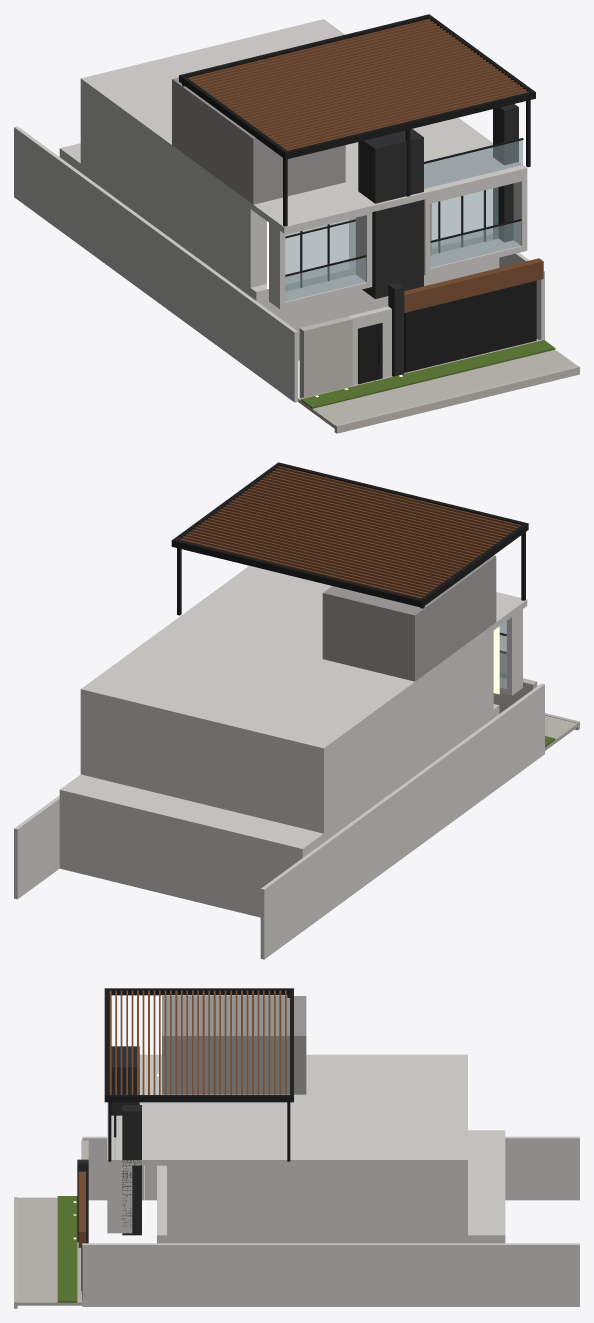
File: prototipo-3.glb
3 renders of one model, top to bottom at view 1: azimuth 30°, elevation 25°; view 2: azimuth 150°, elevation 25°; view 3: azimuth 270°, elevation 25°, orthographic. The views are drawn at different scales.
Parts seen in each view (by area): view 1: prototipo-3; view 2: prototipo-3; view 3: prototipo-3.
Boxes of the visible parts, left/top/right/bottom form: prototipo-3: left=14, top=14, right=579, bottom=433; prototipo-3: left=14, top=462, right=579, bottom=959; prototipo-3: left=14, top=988, right=579, bottom=1308.
Size of the model in its own units: 10.45 by 9.55 by 22.75.
